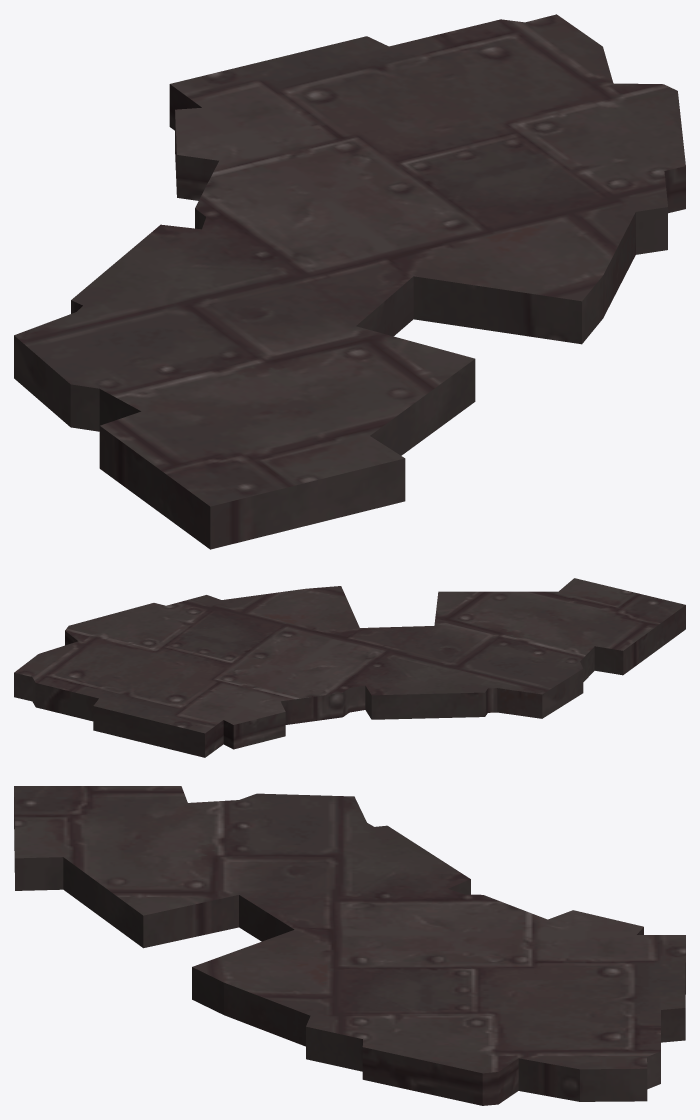
Rendered from sn_jixie_wandao_001.FBX.
The picture shows the model from 3 angles, top to bottom: view 1: azimuth 30°, elevation 25°; view 2: azimuth 150°, elevation 25°; view 3: azimuth 270°, elevation 25°; orthographic projection. The views are drawn at different scales.
Parts seen in each view (by area): view 1: sn_jixie_wandao_001; view 2: sn_jixie_wandao_001; view 3: sn_jixie_wandao_001.
Boxes of the visible parts, x1,y1,x2,y2 form: sn_jixie_wandao_001: [14, 14, 685, 549]; sn_jixie_wandao_001: [14, 578, 685, 757]; sn_jixie_wandao_001: [14, 786, 685, 1105].
Size of the model in its own units: 43.49 by 42.98 by 2.3.
